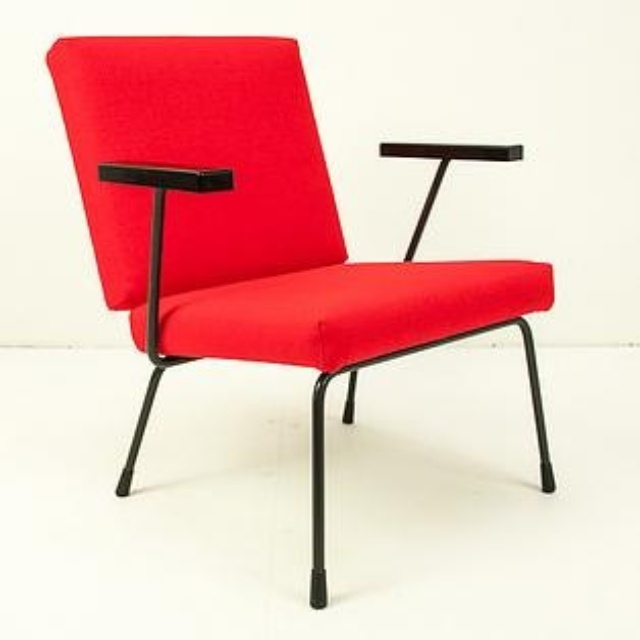obstacle: (47, 36, 552, 606)
